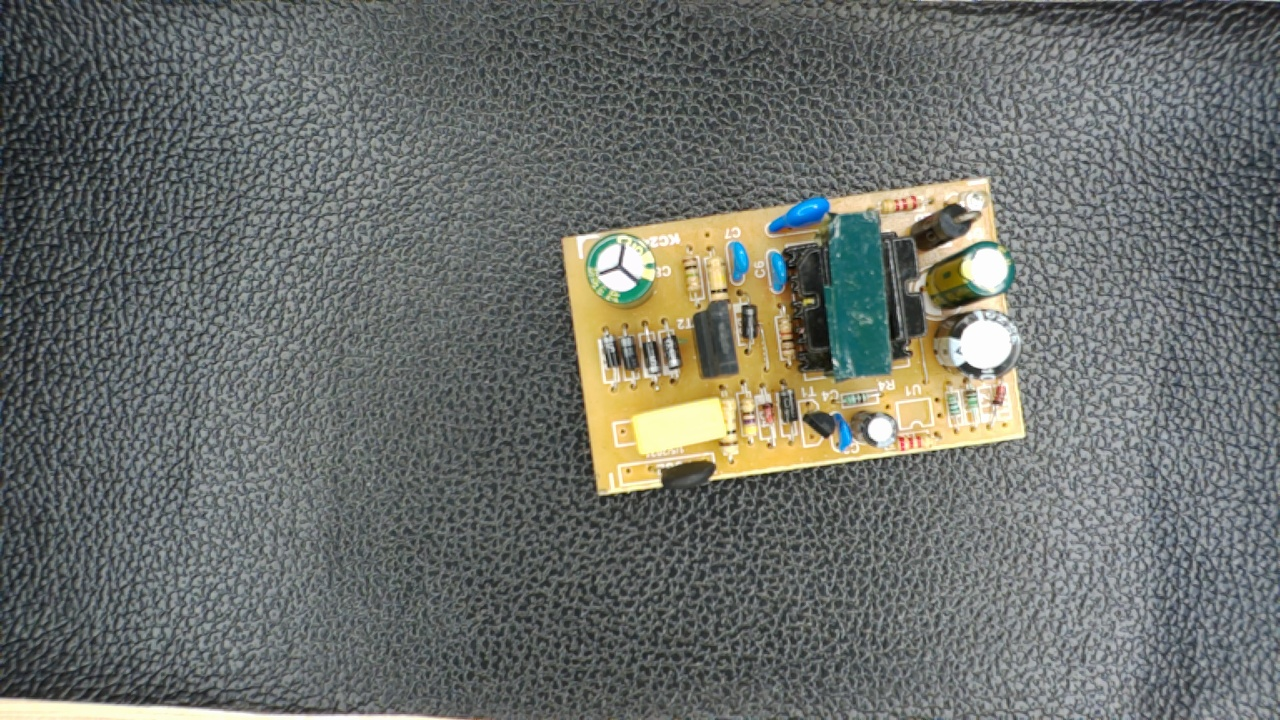fuse: (636, 452, 728, 495)
hv_capacitor: (578, 233, 663, 312)
mov: (762, 195, 848, 236)
